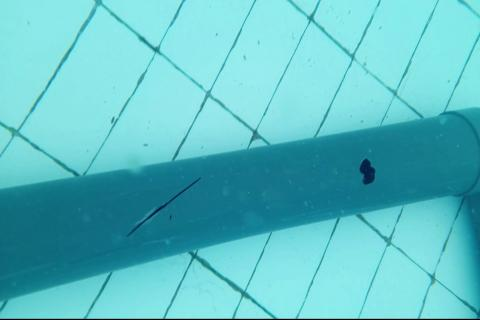kebocoran: (359, 157, 376, 186)
keretakan: (126, 176, 203, 239)
